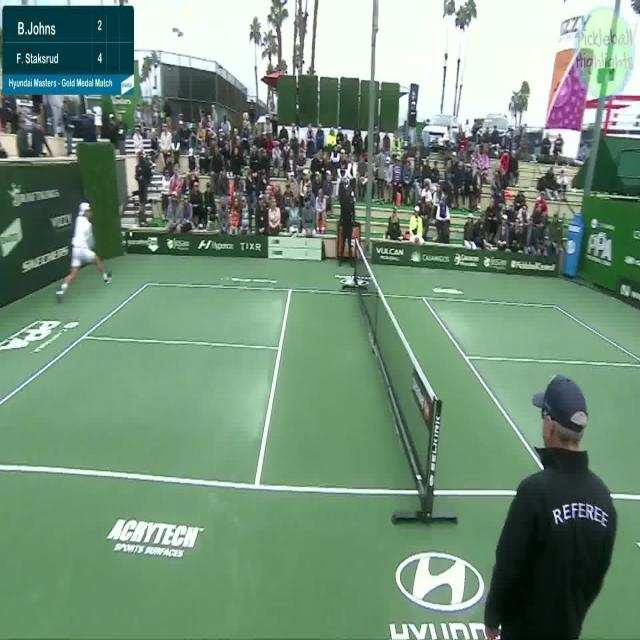ball: (125, 228, 136, 242)
